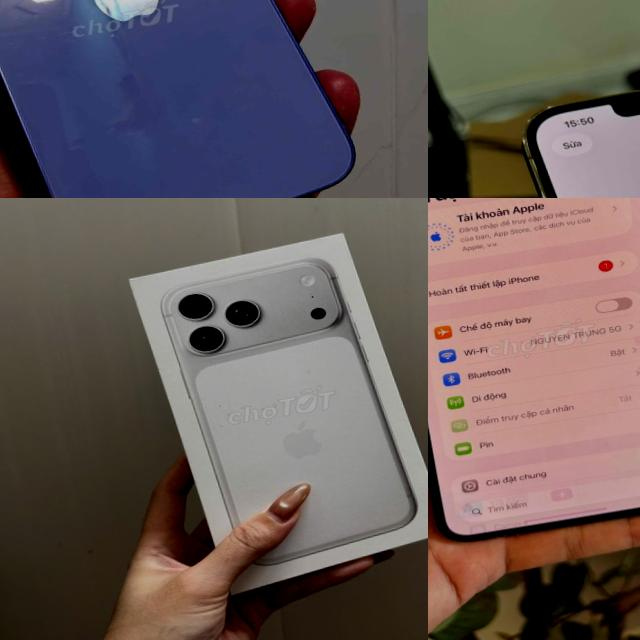gen_11: (428, 198, 640, 557)
gen_12_13: (0, 0, 384, 198), (510, 50, 640, 198)
gen_17: (152, 237, 428, 581)
